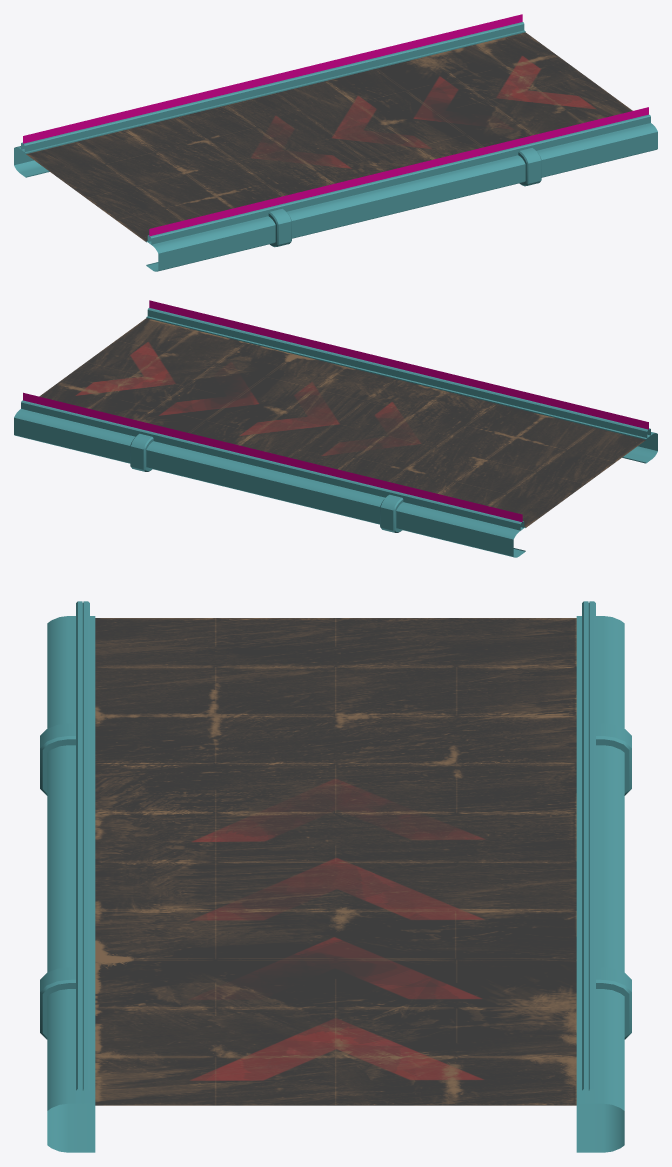
The model's file is Module_Droit.fbx.
The picture shows the model from 3 angles, top to bottom: view 1: azimuth 30°, elevation 25°; view 2: azimuth 150°, elevation 25°; view 3: azimuth 270°, elevation 25°; orthographic projection. The views are drawn at different scales.
Parts seen in each view (by area): view 1: polySurface385, polySurface384, polySurface393; view 2: polySurface385, polySurface384, polySurface393; view 3: polySurface385, polySurface384.
Part boxes in pixels (box(x1,y1,x2,y2)): polySurface385: box(26, 32, 632, 241); polySurface384: box(14, 22, 657, 271); polySurface393: box(23, 14, 648, 236); polySurface385: box(39, 318, 645, 527); polySurface384: box(14, 308, 657, 557); polySurface393: box(23, 300, 648, 522); polySurface385: box(95, 618, 576, 1105); polySurface384: box(40, 601, 631, 1152).
Size of the model in its own units: 30 by 2.5 by 15.38.
